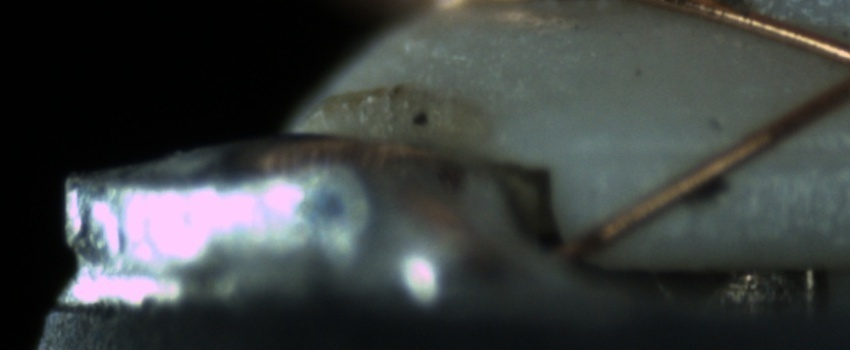DL: (603, 119, 849, 191)
